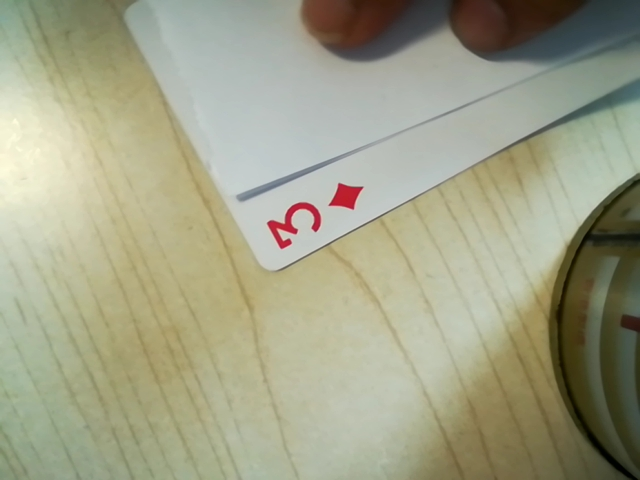fk 3: (258, 178, 365, 254)
